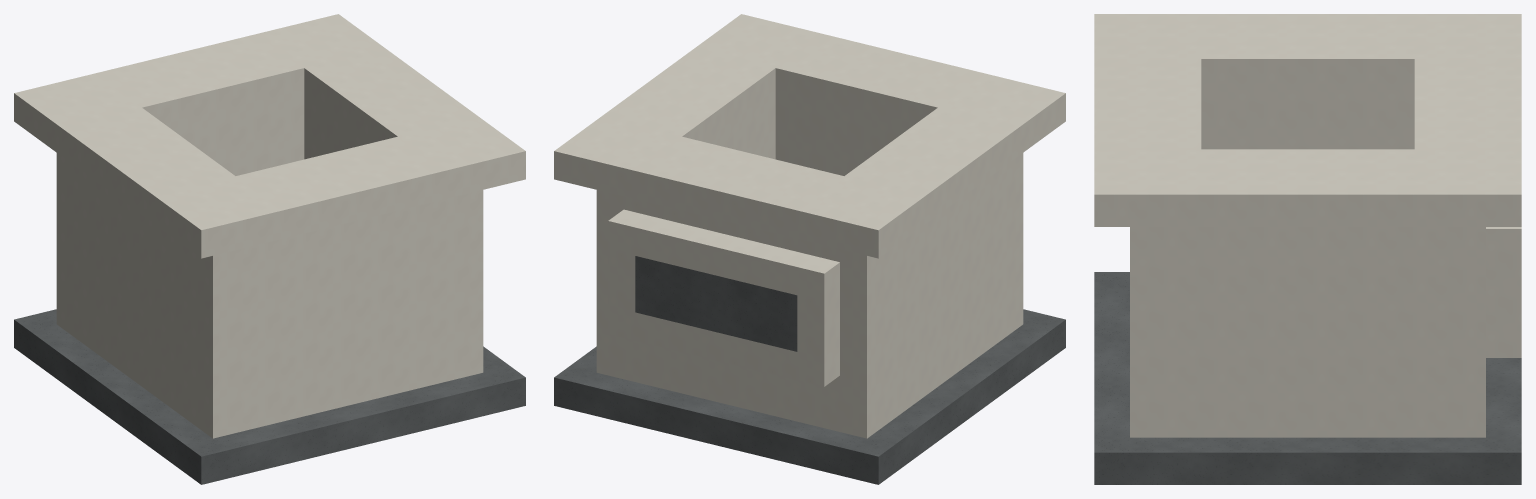
3 views of the same model, side by side, from view 1: azimuth 30°, elevation 25°; view 2: azimuth 150°, elevation 25°; view 3: azimuth 270°, elevation 25° (orthographic). The views are drawn at different scales.
Parts seen in each view (by area): view 1: 独立花盆与种植容器母版; view 2: 独立花盆与种植容器母版; view 3: 独立花盆与种植容器母版.
Boxes of the visible parts, box(x1,y1,x2,y2) form: 独立花盆与种植容器母版: box(14, 14, 525, 484); 独立花盆与种植容器母版: box(554, 14, 1065, 484); 独立花盆与种植容器母版: box(1094, 14, 1521, 484).
Size of the model in its own units: 2.4 by 1.8 by 2.4.
Materials: 2 (2 with a texture image).
